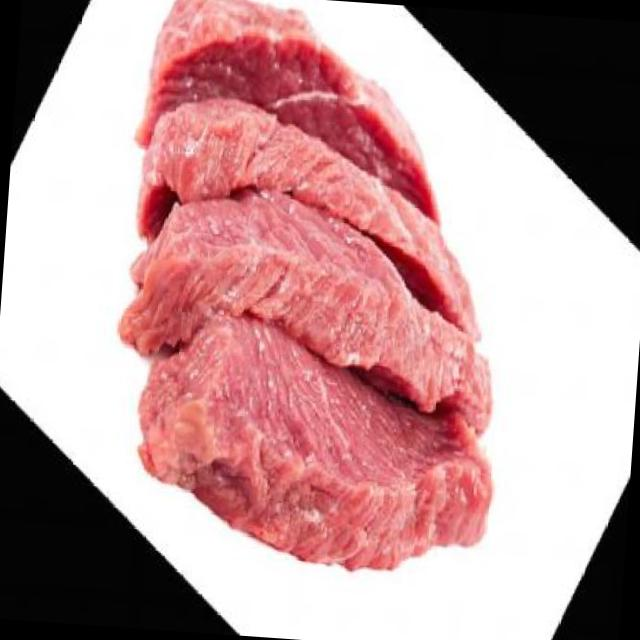beef: (90, 0, 534, 583)
